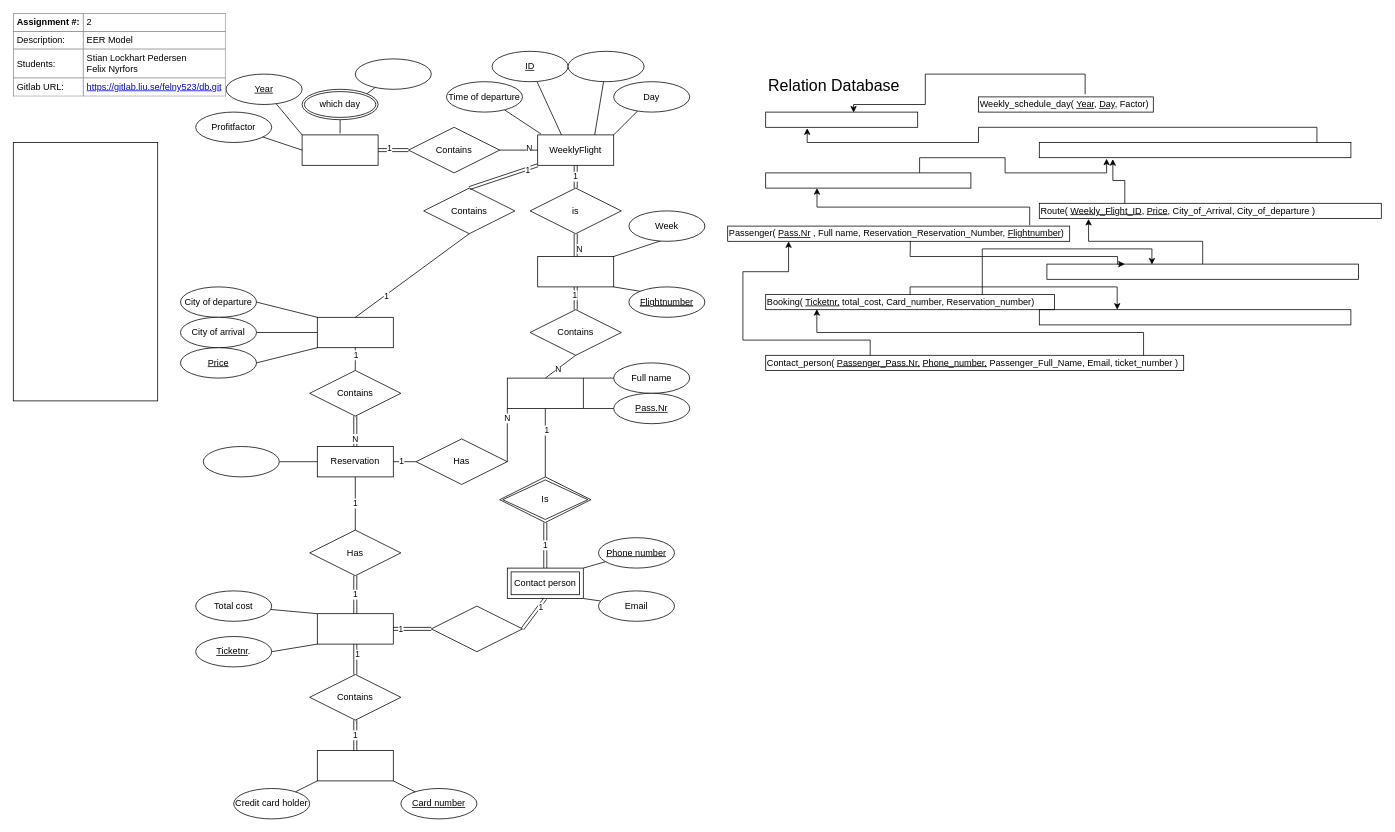
Image size: 1395x832. Some labels were removed from this diagram. The centre of each missing label's shape, as x and y in pixels:
"Assumption 1. We assume that we have to make a reservation when we book." belongs at point 85,271.
"Booked passengers" belongs at point 605,66.
"Booking" belongs at point 355,628.
"Factor" belongs at point 393,73.
"Flight" belongs at point 575,271.
"Flight( Flightnumber , Week, WeeklyFlight_ID)" belongs at point 868,180.
"Must have" belongs at point 476,628.
"Passenger" belongs at point 545,392.
"Payment" belongs at point 355,765.
"Payment( Card number , Credit_card_holder )" belongs at point 1195,317.
"Reservation number" belongs at point 241,461.
"Reservation( Reservation_number, Route_RouteID)" belongs at point 1202,271.
"Route" belongs at point 355,332.
"Weekly Schedule" belongs at point 339,149.
"Weekly_Flight( ID , Time_of_departure, Booked_passengers, Day, Year)" belongs at point 1195,150.
"Weekly_schedule( Year , Profitfactor)" belongs at point 841,119.
